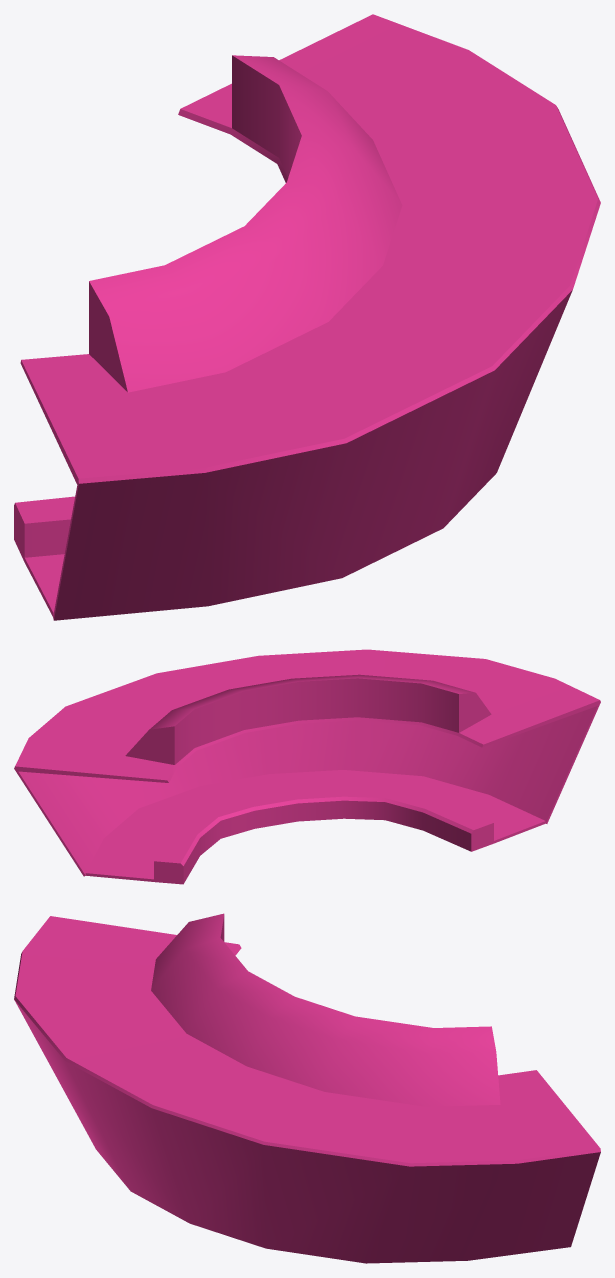
File: StockExchange_mesh 1.fbx
3 views of the same model, one above another, from view 1: azimuth 30°, elevation 25°; view 2: azimuth 150°, elevation 25°; view 3: azimuth 270°, elevation 25° (orthographic). The views are drawn at different scales.
Visible parts, largest first — view 1: StockExchange_mesh; view 2: StockExchange_mesh; view 3: StockExchange_mesh.
Boxes of the visible parts, box(x1,y1,x2,y2) form: StockExchange_mesh: box(14, 14, 600, 620); StockExchange_mesh: box(14, 649, 600, 884); StockExchange_mesh: box(14, 913, 600, 1263).
Bounding box in the file's own units: 3109 × 1069 × 3109.
